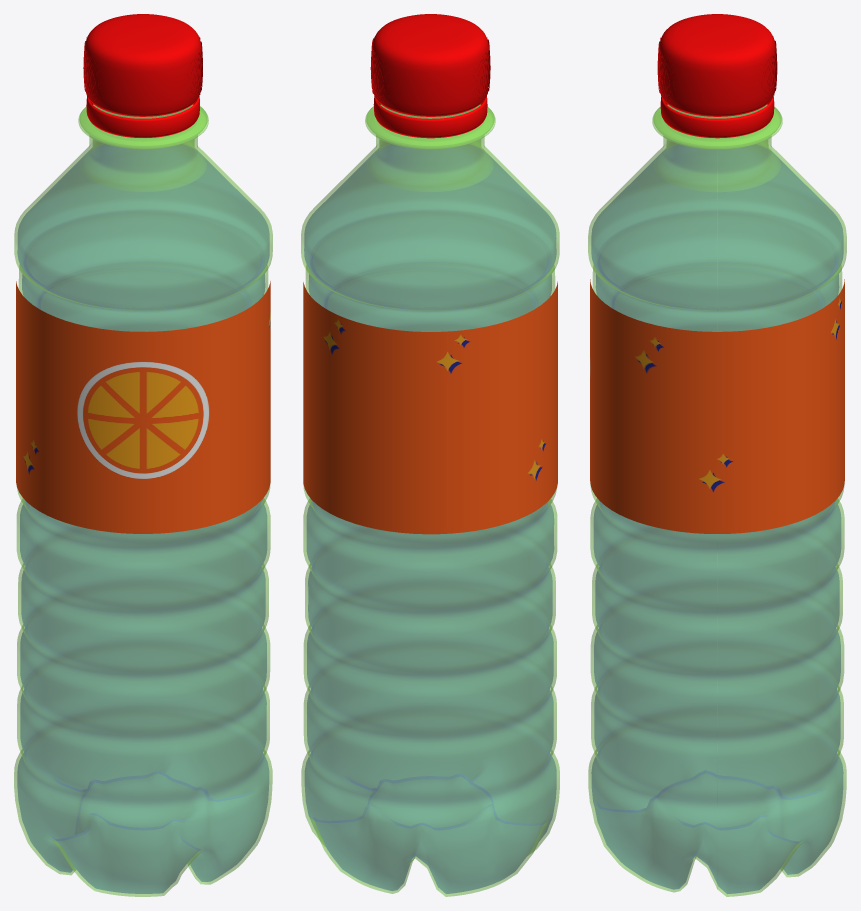
File: tyt.gltf
3 views of the same model, side by side, from view 1: azimuth 30°, elevation 25°; view 2: azimuth 150°, elevation 25°; view 3: azimuth 270°, elevation 25° (orthographic).
Parts seen in each view (by area): view 1: Bottle_Circle.001, BottleCap_Cylinder.001; view 2: Bottle_Circle.001, BottleCap_Cylinder.001; view 3: Bottle_Circle.001, BottleCap_Cylinder.001.
Boxes of the visible parts, x1,y1,x2,y2 form: Bottle_Circle.001: (14, 96, 272, 896); BottleCap_Cylinder.001: (83, 14, 202, 116); Bottle_Circle.001: (301, 96, 559, 896); BottleCap_Cylinder.001: (370, 14, 490, 116); Bottle_Circle.001: (588, 96, 846, 896); BottleCap_Cylinder.001: (657, 14, 777, 116).
Size of the model in its own units: 0.00386 by 0.0136 by 0.00386.
Materials: 5 (1 with a texture image).
